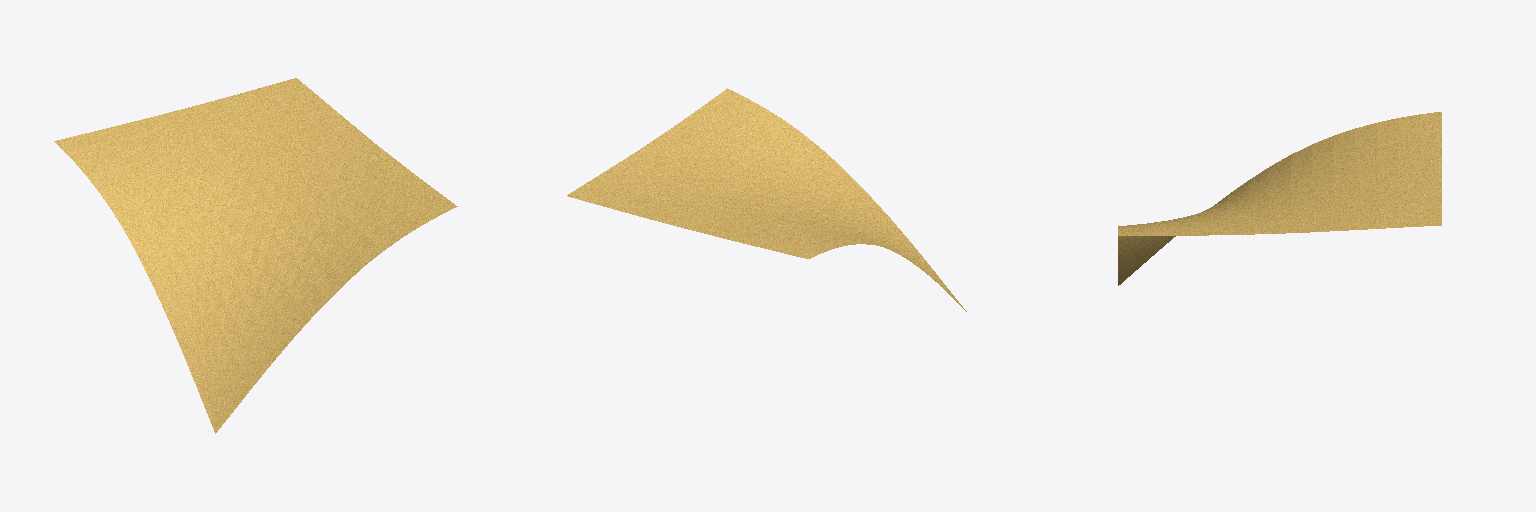
3 renders of one model, left to right at view 1: azimuth 30°, elevation 25°; view 2: azimuth 150°, elevation 25°; view 3: azimuth 270°, elevation 25°, orthographic.
Visible parts, largest first — view 1: Plane_Plane.000; view 2: Plane_Plane.000; view 3: Plane_Plane.000.
Boxes of the visible parts, x1=… form: Plane_Plane.000: x1=54, y1=78, x2=457, y2=433; Plane_Plane.000: x1=567, y1=88, x2=966, y2=311; Plane_Plane.000: x1=1118, y1=112, x2=1441, y2=285.
Size of the model in its own units: 650 by 458 by 750.
Materials: 1 (1 with a texture image).